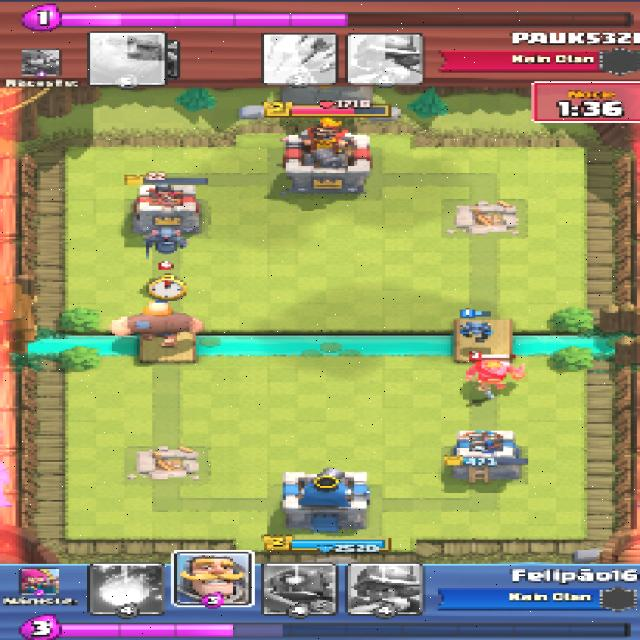Enemy-Knight: (462, 360, 523, 390)
Enemy-MiniPEKKA: (141, 228, 185, 253)
Player-Giant: (112, 303, 203, 347)
Player-Minion: (461, 320, 494, 339)
